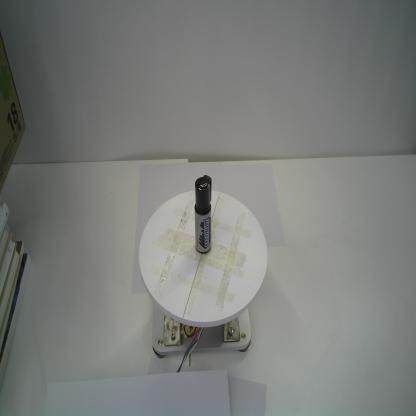Stationery: (194, 174, 212, 254)
